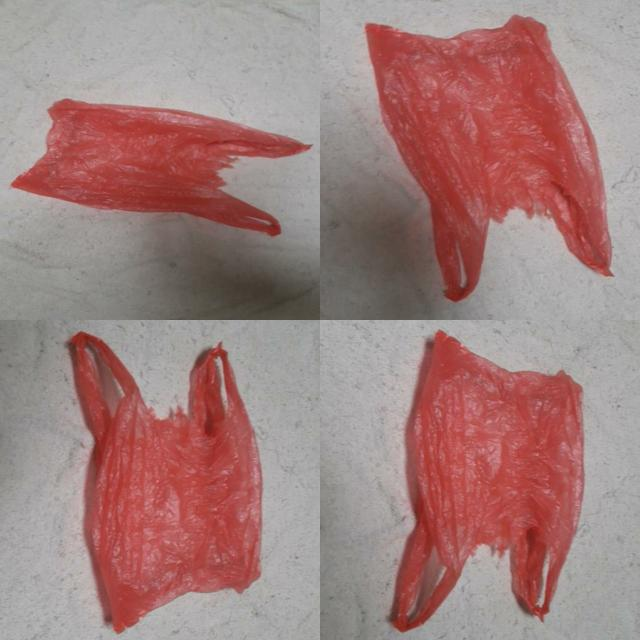Single-layer Plastic: (366, 15, 611, 301), (391, 331, 584, 631), (70, 332, 261, 632), (11, 99, 311, 236)
